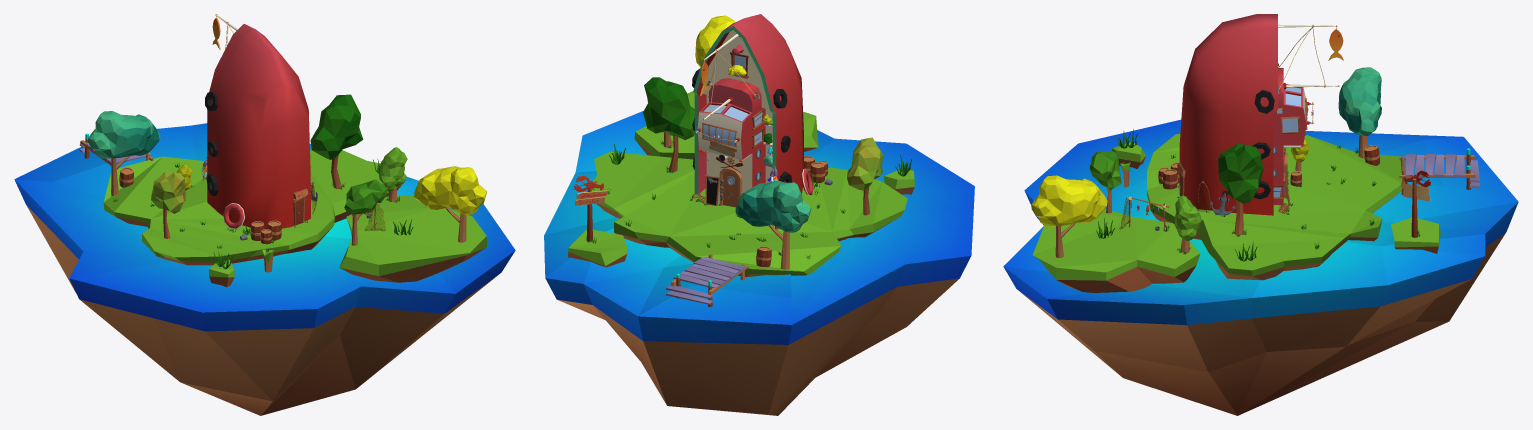
The model's file is boatrestaurant.glb.
The picture shows the model from 3 angles, left to right: view 1: azimuth 30°, elevation 25°; view 2: azimuth 150°, elevation 25°; view 3: azimuth 270°, elevation 25°; orthographic projection. The views are drawn at different scales.
Visible parts, largest first — view 1: boat_restaurant; view 2: boat_restaurant; view 3: boat_restaurant.
Boxes of the visible parts, bbox=[...] form: boat_restaurant: bbox=[14, 14, 515, 415]; boat_restaurant: bbox=[544, 14, 974, 415]; boat_restaurant: bbox=[1003, 14, 1518, 415].
Bounding box in the file's own units: 4.73 × 4.42 × 5.12.
2 materials, 2 textured.
